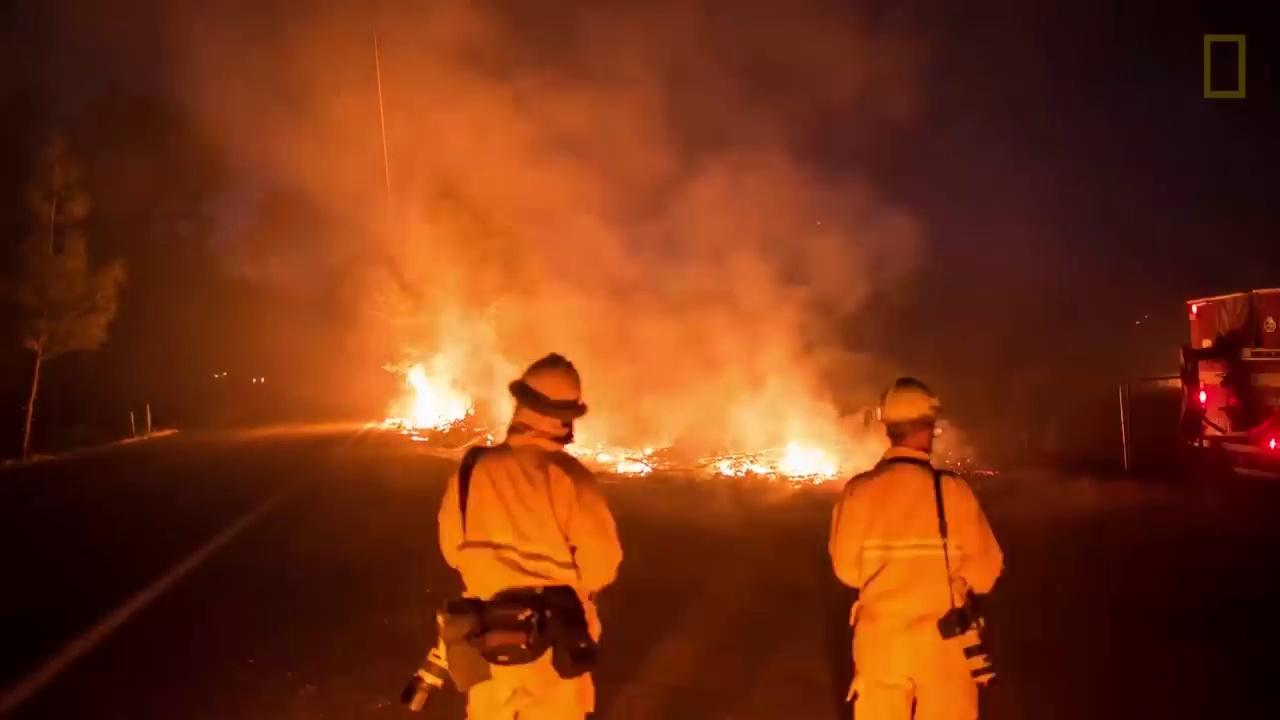Fire: (698, 421, 842, 488), (383, 353, 479, 428), (575, 438, 660, 479)
